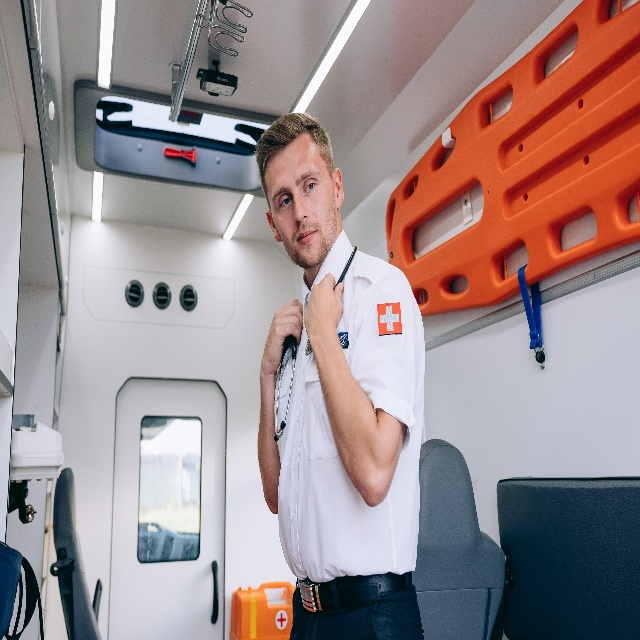Sin_guantes: (258, 298, 303, 379), (301, 271, 350, 340)
